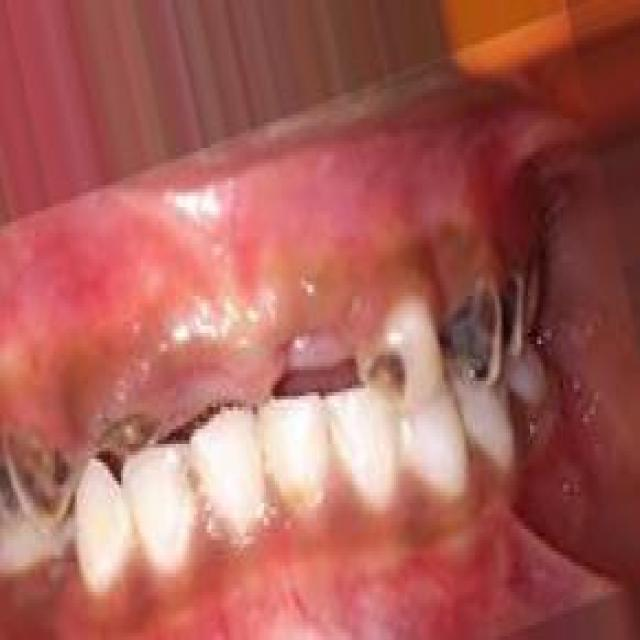caries: (0, 409, 84, 540), (433, 273, 498, 402), (357, 313, 427, 429), (90, 394, 170, 483), (500, 259, 532, 363)
